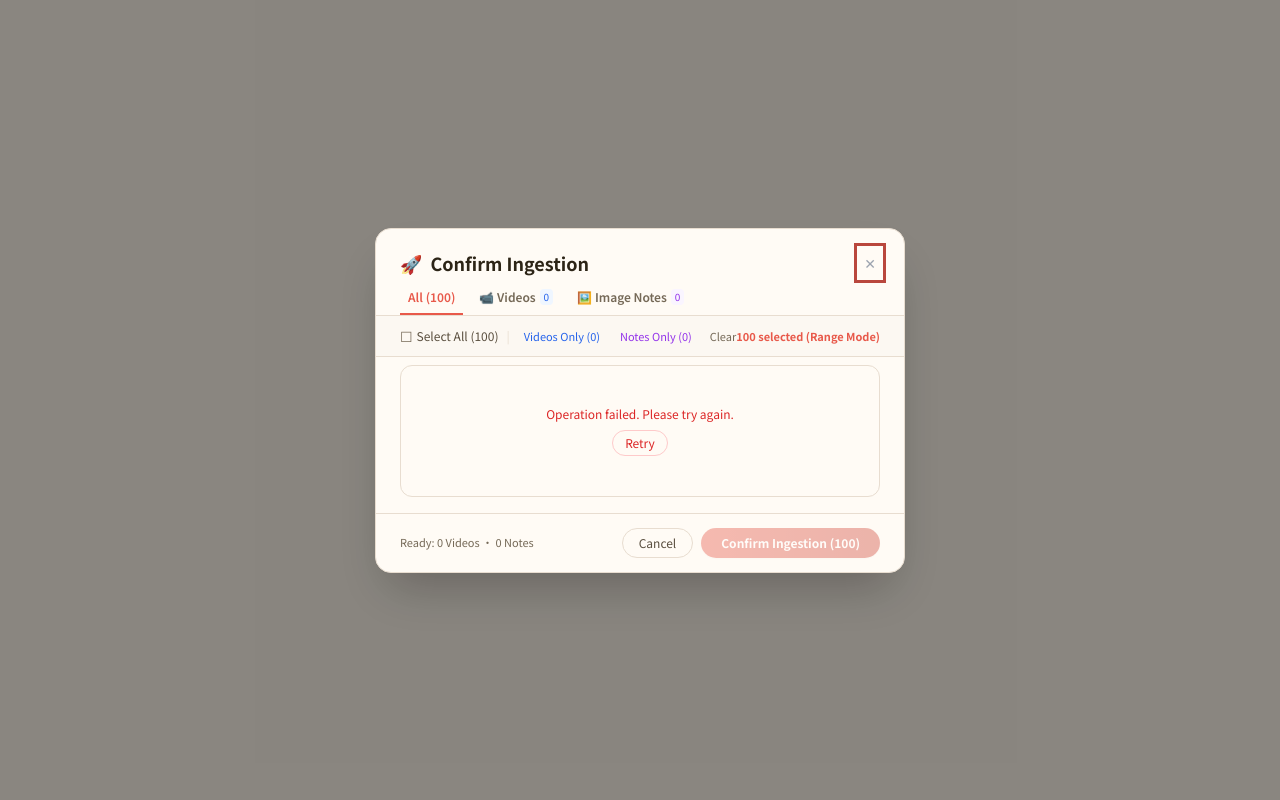
Scenario: BuildConfirmModal request scope › a failed first page says so, offers a retry and does not pretend the list is empty
Expected: the message shows "Operation failed. Please try again.", [546,404,734,422]
Expected: the button "Confirm Ingestion (100)" is disabled, [701,528,880,558]
Click the button "Retry" at (640, 442), box [612,430,668,456]
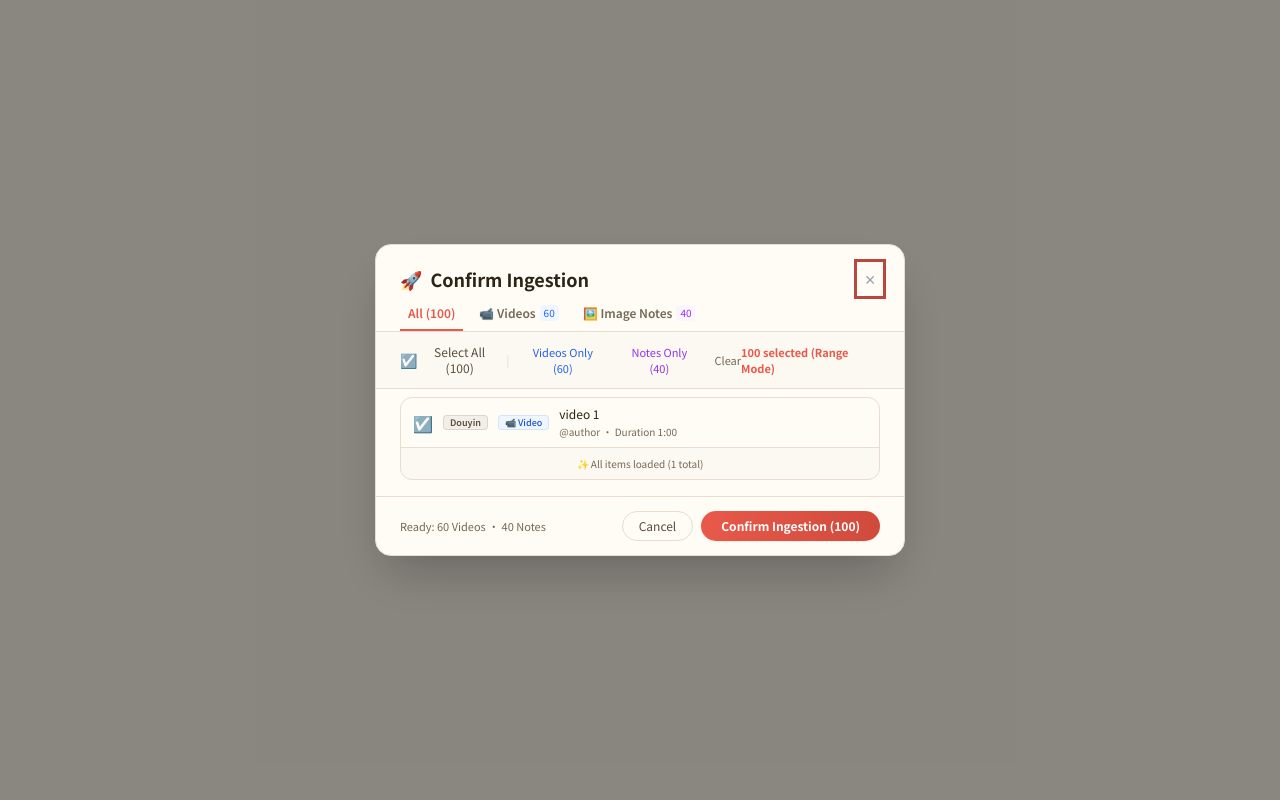
Result: the message "Operation failed. Please try again. Retry" is gone
Result: the text "video 1" is shown at [559,405,600,422]
Result: the button "Confirm Ingestion (100)" is enabled at [701,511,880,541]
